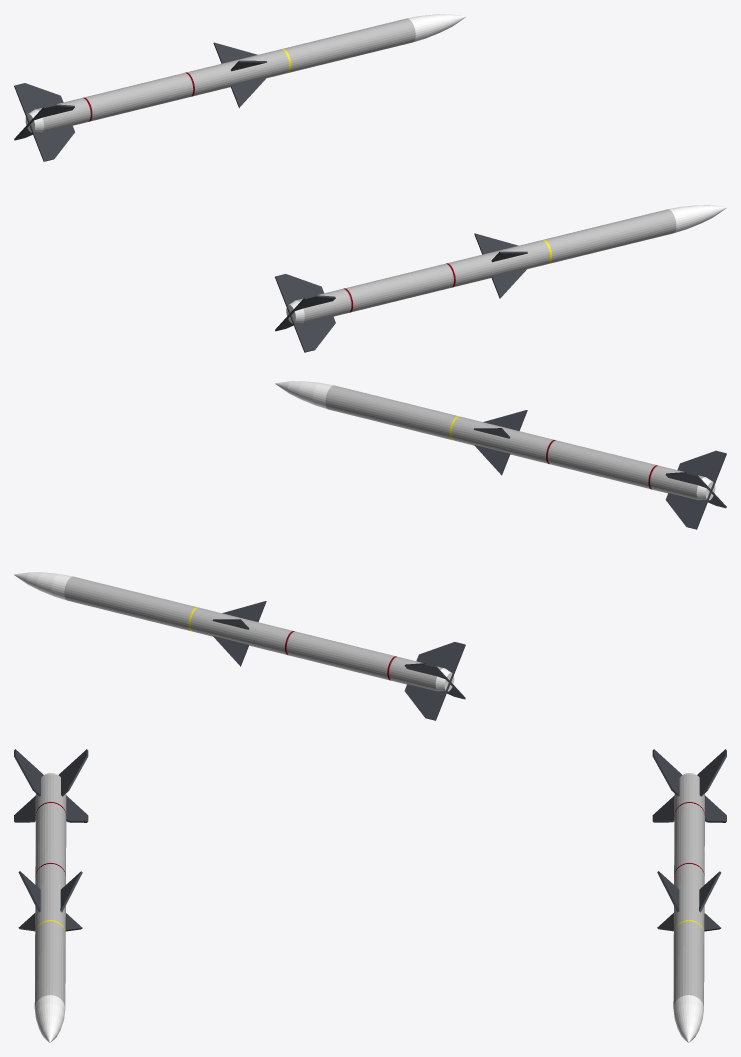
The model's file is f15eaim12023.glb.
The picture shows the model from 3 angles, top to bottom: view 1: azimuth 30°, elevation 25°; view 2: azimuth 150°, elevation 25°; view 3: azimuth 270°, elevation 25°; orthographic projection. The views are drawn at different scales.
Visible parts, largest first — view 1: 円柱.006, 円柱.003; view 2: 円柱.003, 円柱.006; view 3: 円柱.003, 円柱.006.
Boxes of the visible parts, x1=… form: 円柱.006: x1=275, y1=205, x2=726, y2=352; 円柱.003: x1=14, y1=14, x2=465, y2=161; 円柱.003: x1=14, y1=572, x2=465, y2=720; 円柱.006: x1=275, y1=381, x2=726, y2=529; 円柱.003: x1=652, y1=749, x2=726, y2=1042; 円柱.006: x1=14, y1=749, x2=88, y2=1042.
Bounding box in the file's own units: 4.39 × 0.5295 × 5.07.
Materials: 4 (4 with a texture image).
